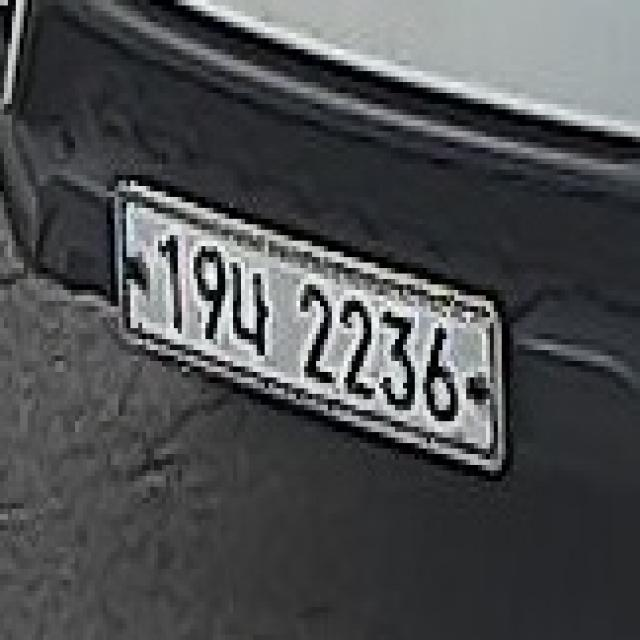1: (150, 218, 190, 356)
2: (292, 279, 340, 399), (340, 290, 379, 416)
3: (379, 301, 419, 427)
6: (419, 312, 466, 438)
9: (190, 235, 229, 356)
license_plate: (106, 170, 514, 492)
na: (229, 252, 273, 366)
